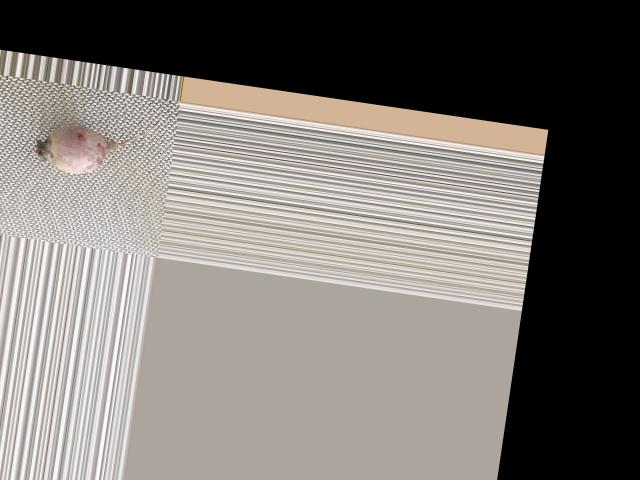beet: (29, 99, 162, 184)
